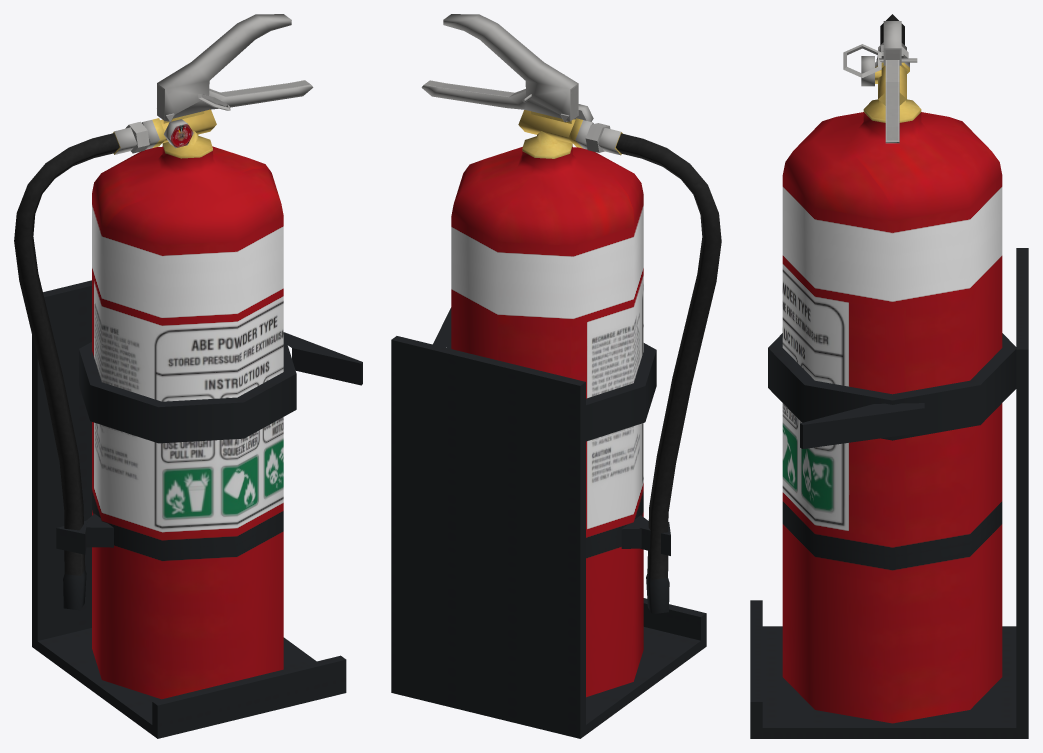
File: fire-extinguisher-cbj_LOD02.gltf
The picture shows the model from 3 angles, left to right: view 1: azimuth 30°, elevation 25°; view 2: azimuth 150°, elevation 25°; view 3: azimuth 270°, elevation 25°; orthographic projection. The views are drawn at different scales.
Visible parts, largest first — view 1: Fire extinguisher.003; view 2: Fire extinguisher.003; view 3: Fire extinguisher.003.
Part boxes in pixels (bbox=[...]): Fire extinguisher.003: bbox=[14, 14, 362, 738]; Fire extinguisher.003: bbox=[391, 14, 721, 738]; Fire extinguisher.003: bbox=[750, 14, 1028, 738].
Size of the model in its own units: 0.3265 by 0.6414 by 0.2306.
